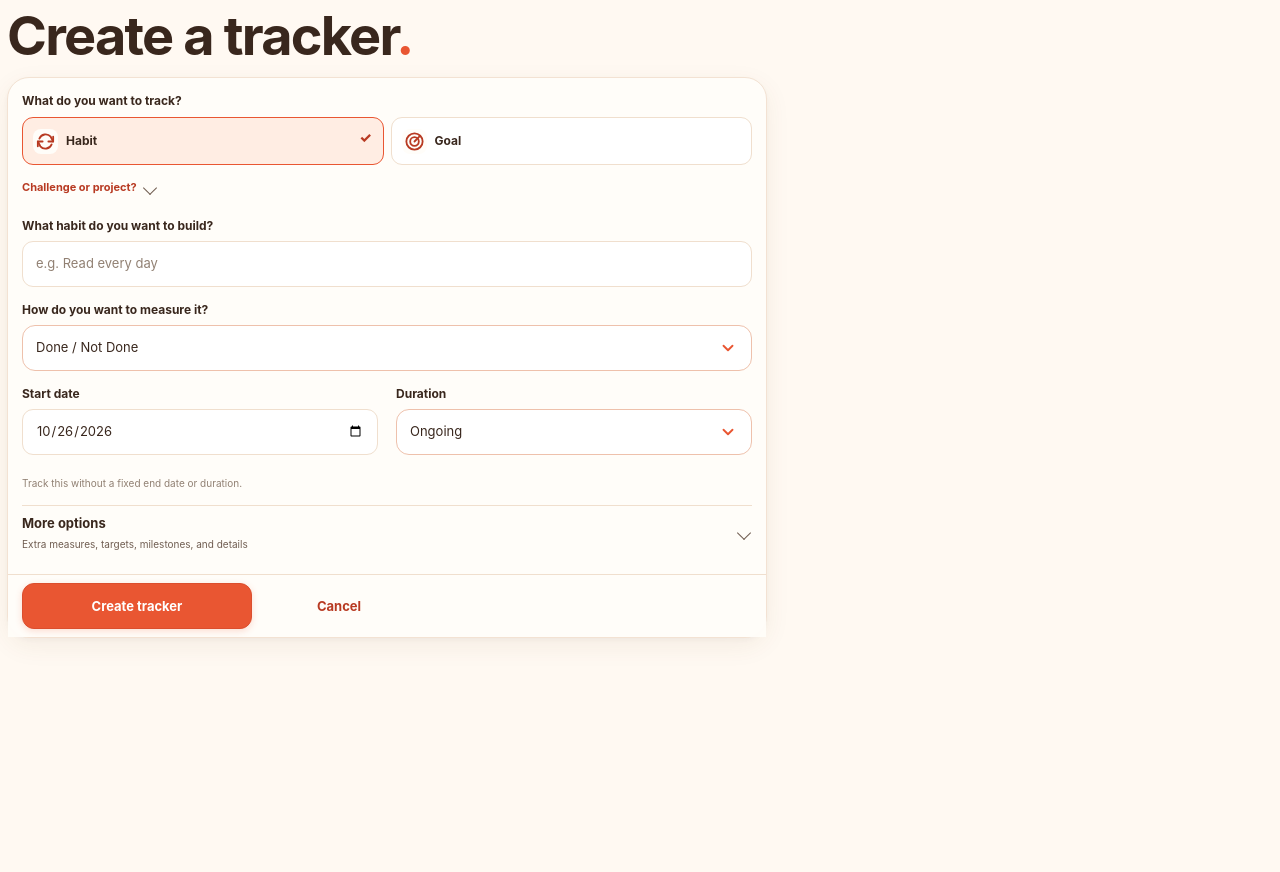
Test: tracker setup flow › associates advanced validation feedback with the exact invalid control
Type "Write daily" into the field labelled "What habit do you want to build?" at (387, 264), box x1=22 y1=241 x2=752 y2=287
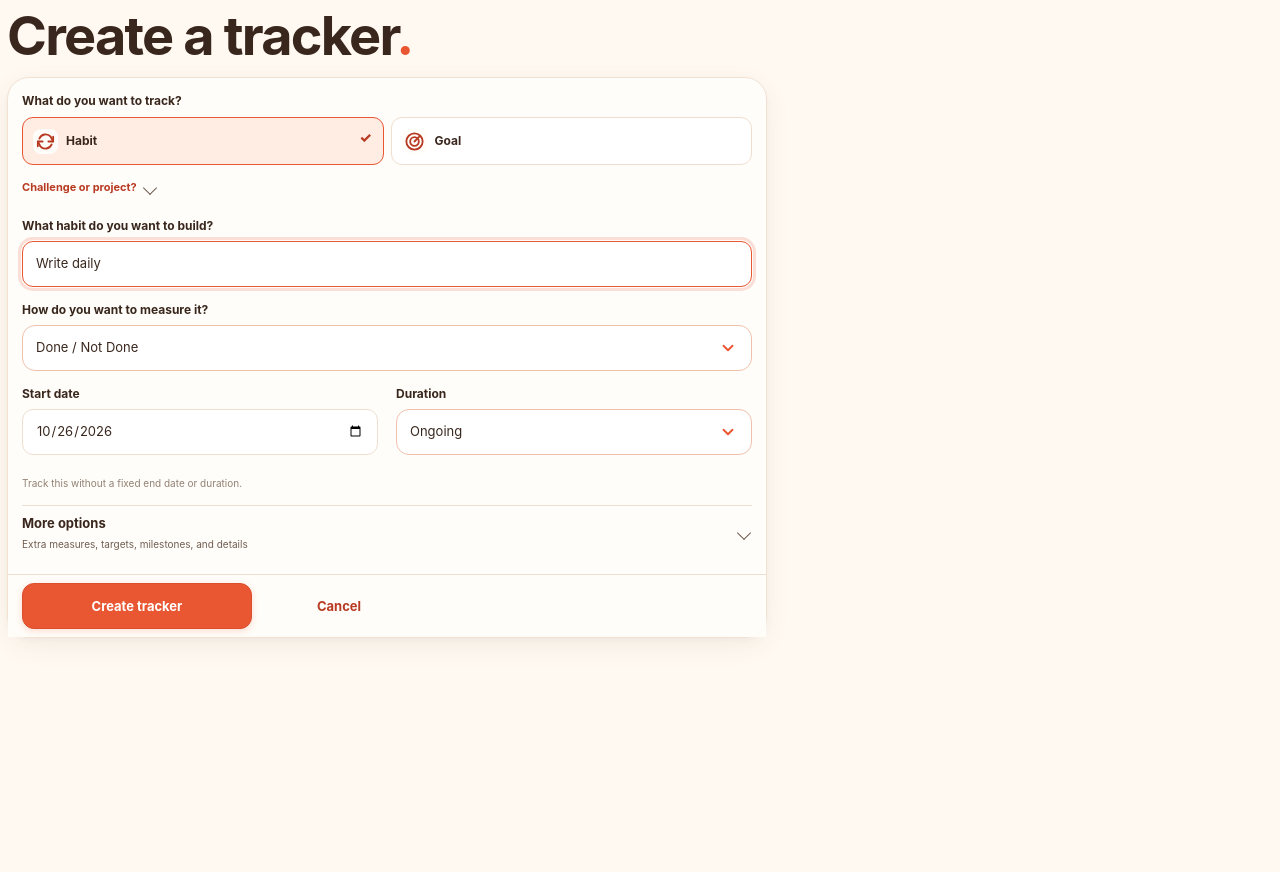
Click the text "More options" at (64, 523), box x1=22 y1=515 x2=106 y2=531
(page scrolled)
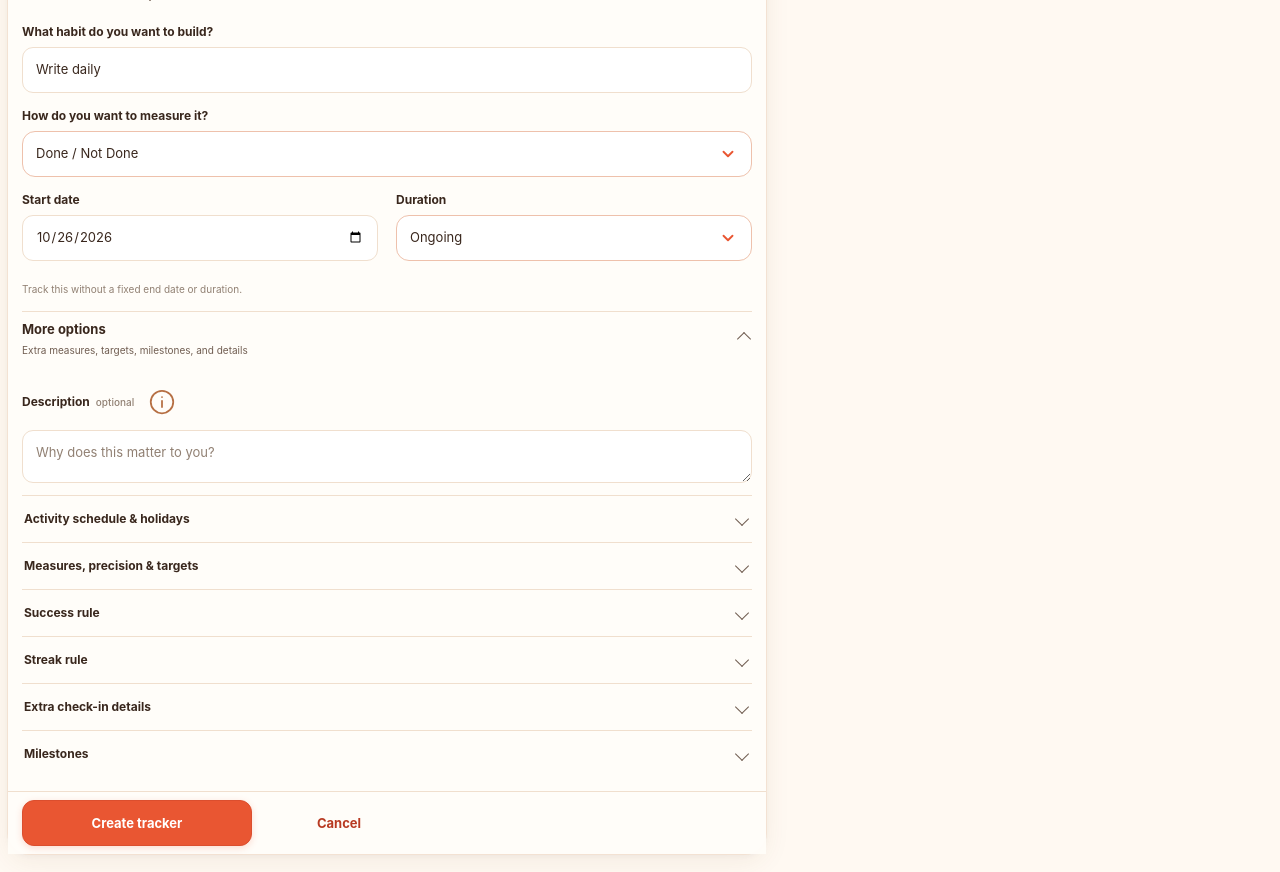
Click the heading "Extra check-in details" at (87, 707), box x1=24 y1=699 x2=151 y2=714
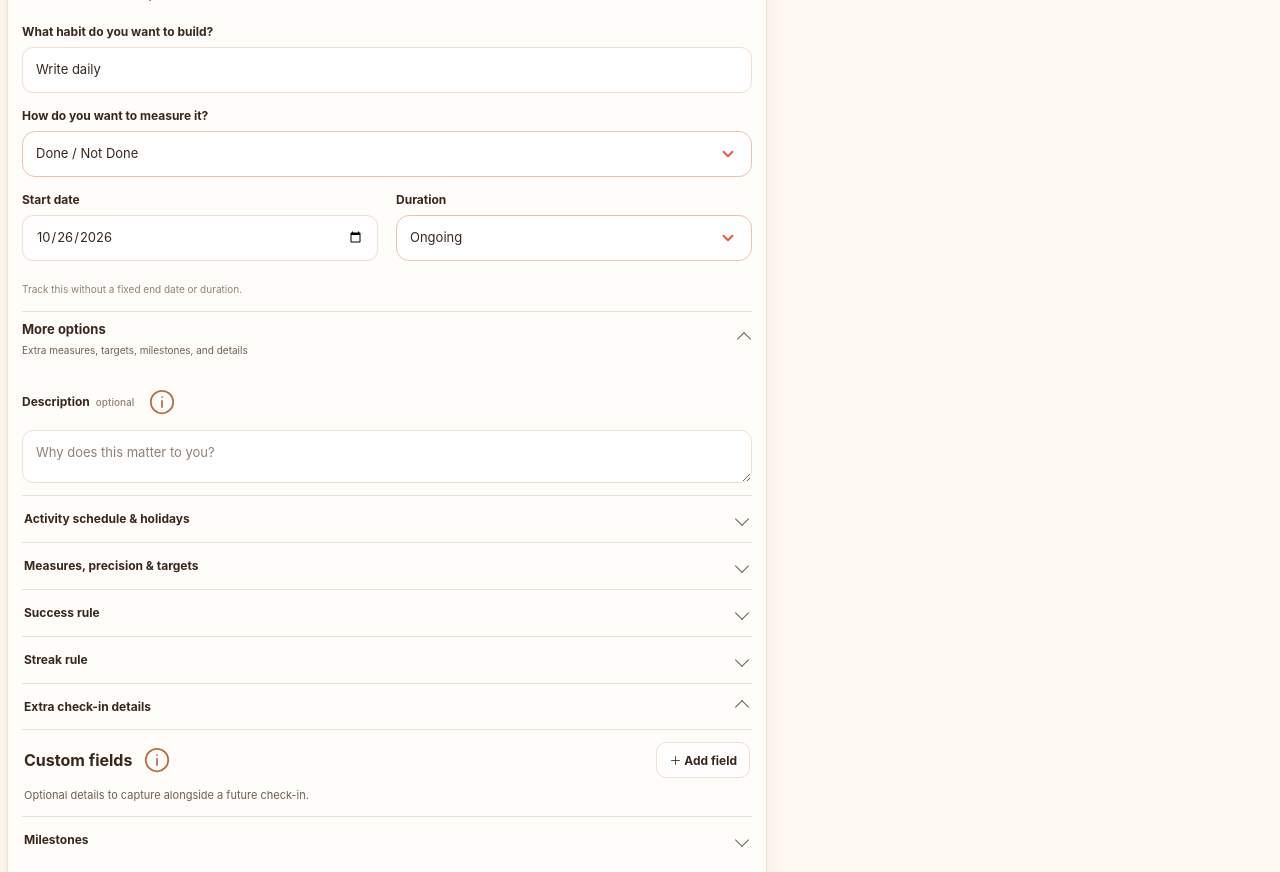
Click the button "＋ Add field" at (703, 760), box x1=656 y1=742 x2=750 y2=778
(page scrolled)
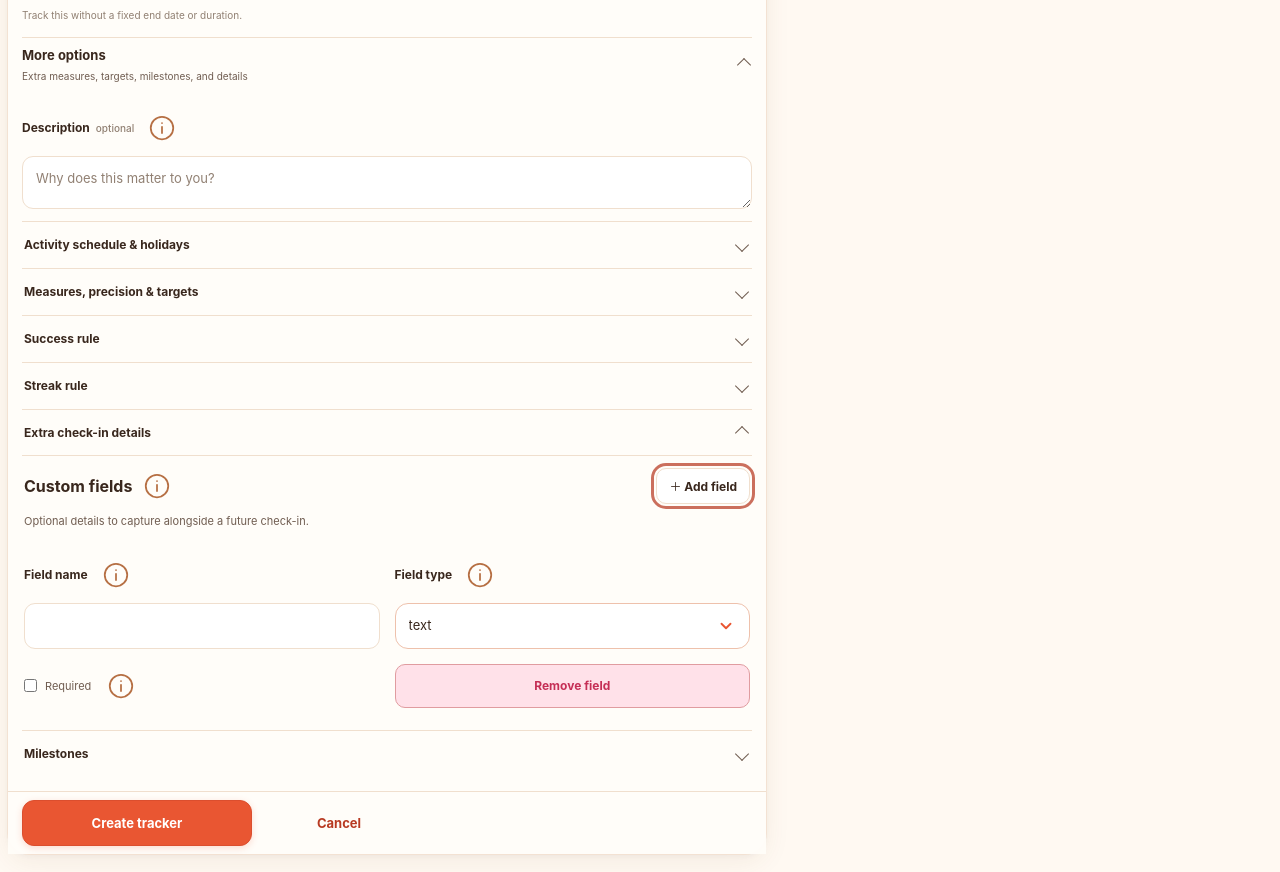
Click the button "Create tracker" at (137, 823), box x1=22 y1=800 x2=252 y2=846
(page scrolled)
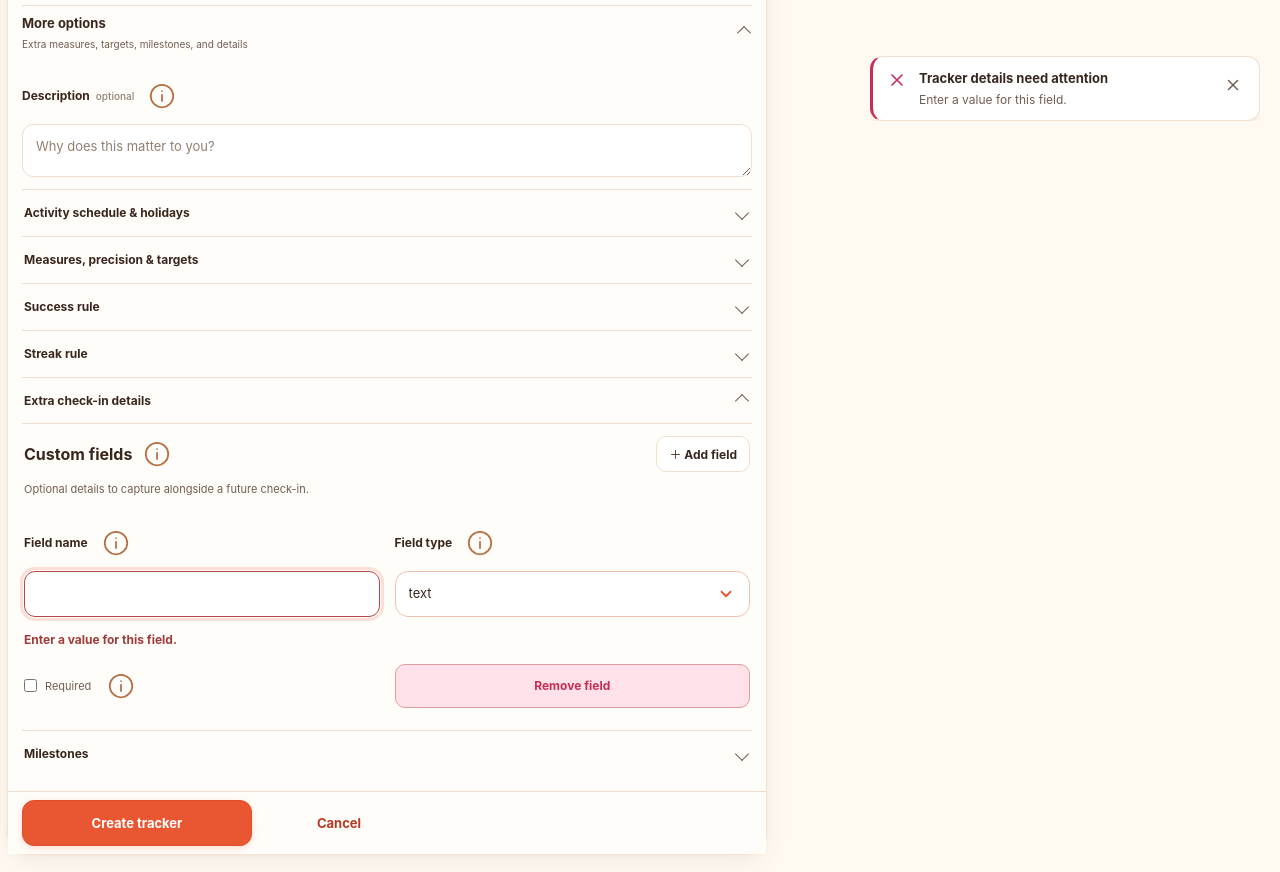
expect the message "Enter a value for this field." is shown: met, box x1=24 y1=632 x2=177 y2=647
